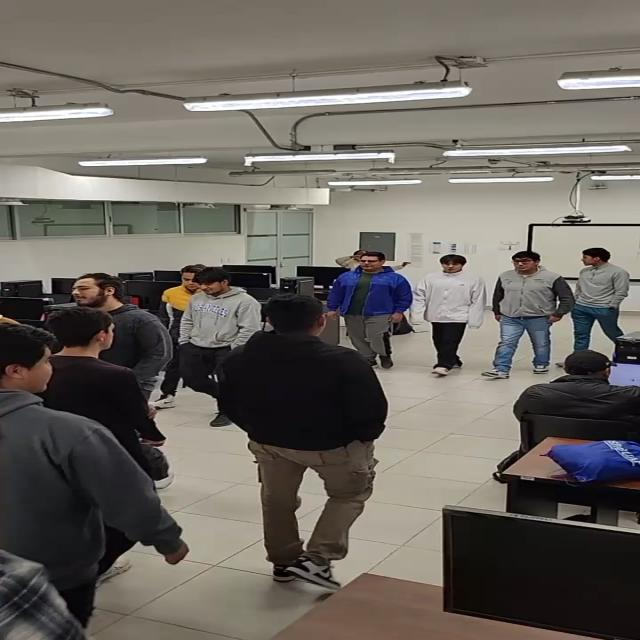Persona: (0, 321, 190, 628), (219, 291, 391, 591), (50, 269, 179, 492), (41, 307, 166, 461), (174, 269, 251, 426), (481, 250, 577, 374), (322, 252, 415, 370), (409, 253, 488, 369), (148, 264, 209, 413), (571, 247, 632, 366)
